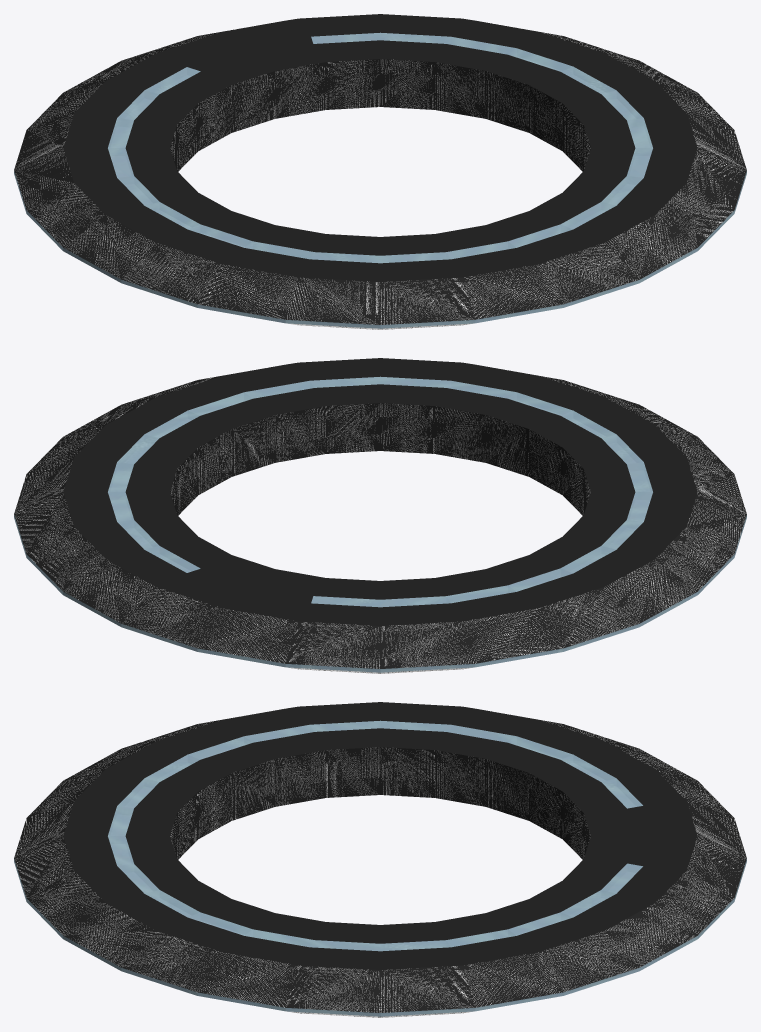
Rendered from ironman_disc.dae.
The picture shows the model from 3 angles, top to bottom: view 1: azimuth 30°, elevation 25°; view 2: azimuth 150°, elevation 25°; view 3: azimuth 270°, elevation 25°; orthographic projection.
Visible parts, largest first — view 1: SketchUp (×5); view 2: SketchUp (×5); view 3: SketchUp (×5).
Boxes of the visible parts, box(x1,y1,x2,y2) form: SketchUp (×5): box(14, 14, 746, 328); SketchUp (×5): box(14, 358, 746, 672); SketchUp (×5): box(14, 702, 746, 1016).
Bounding box in the file's own units: 83.21 × 83.21 × 6.
3 materials, 1 textured.
